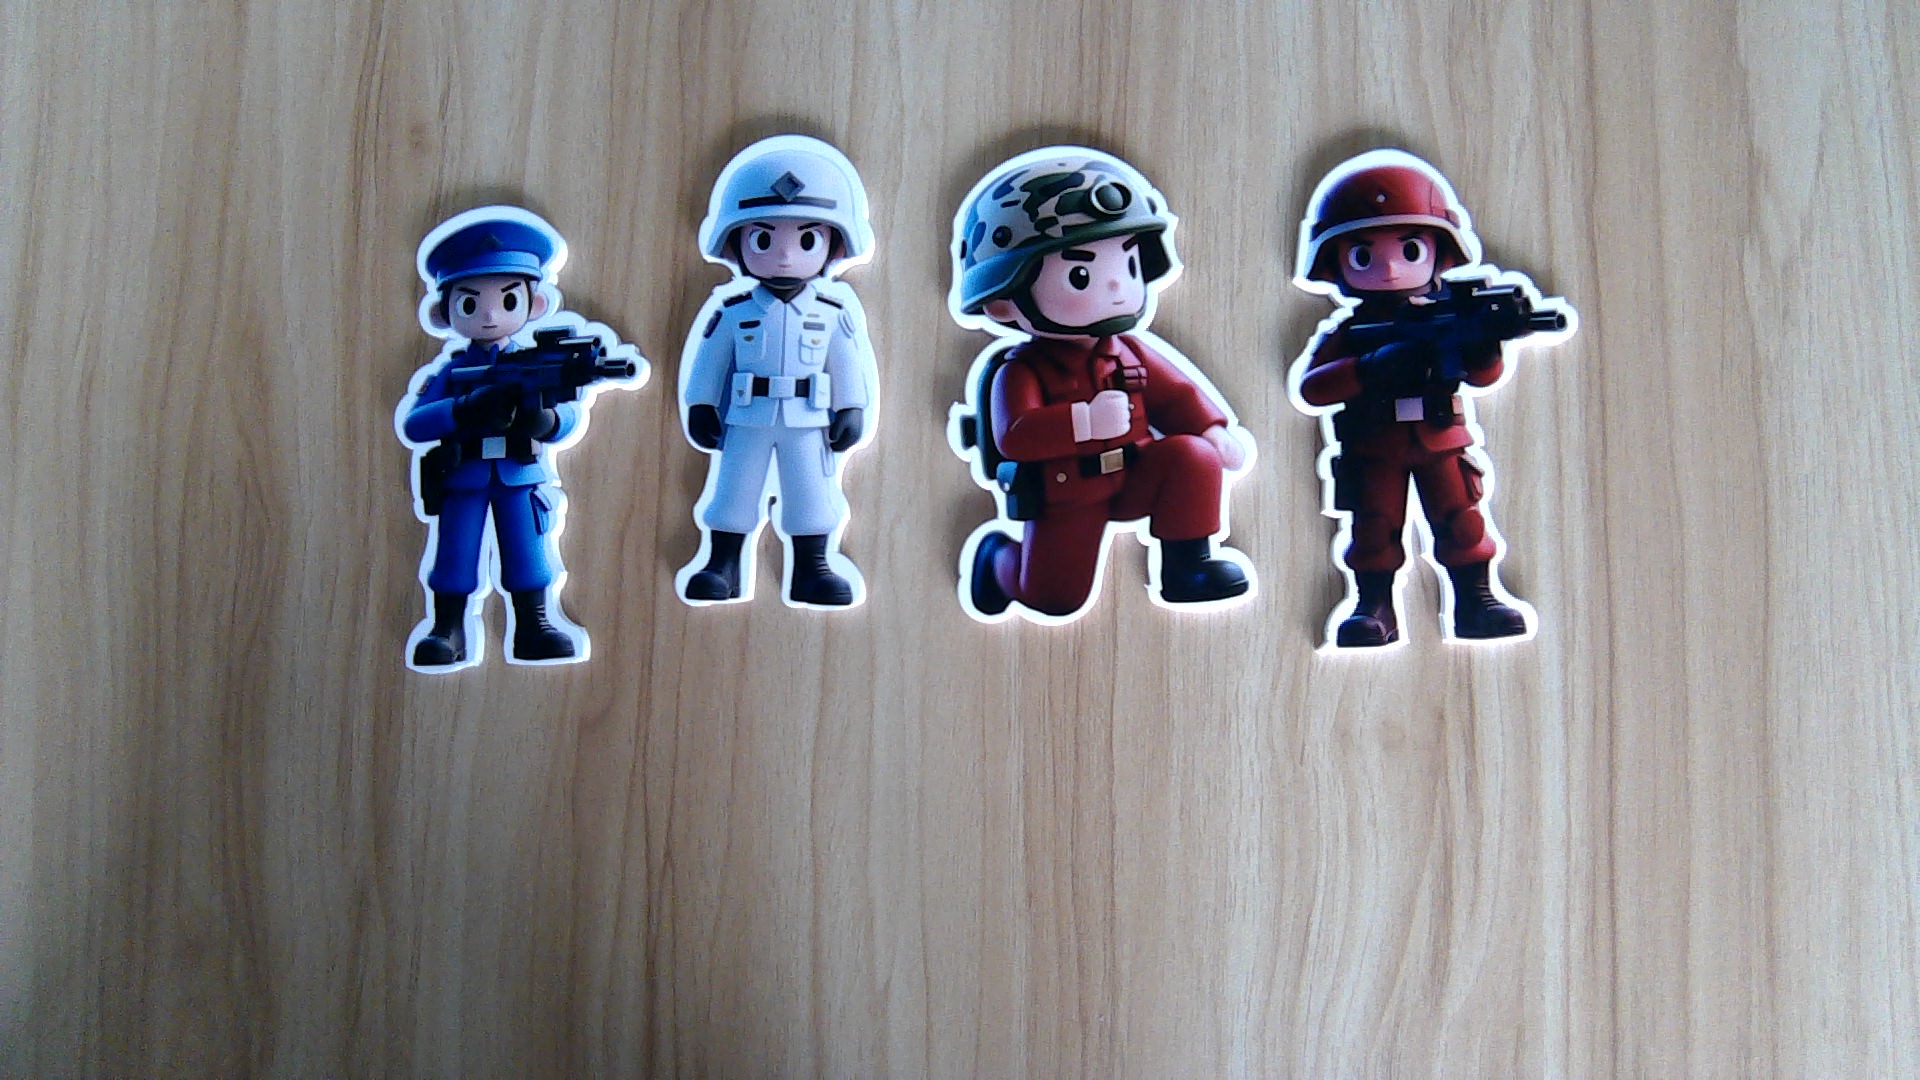人质: (669, 285, 878, 615)
敌人1: (1283, 303, 1580, 657), (935, 330, 1265, 626)
敌人2: (386, 339, 615, 675)
